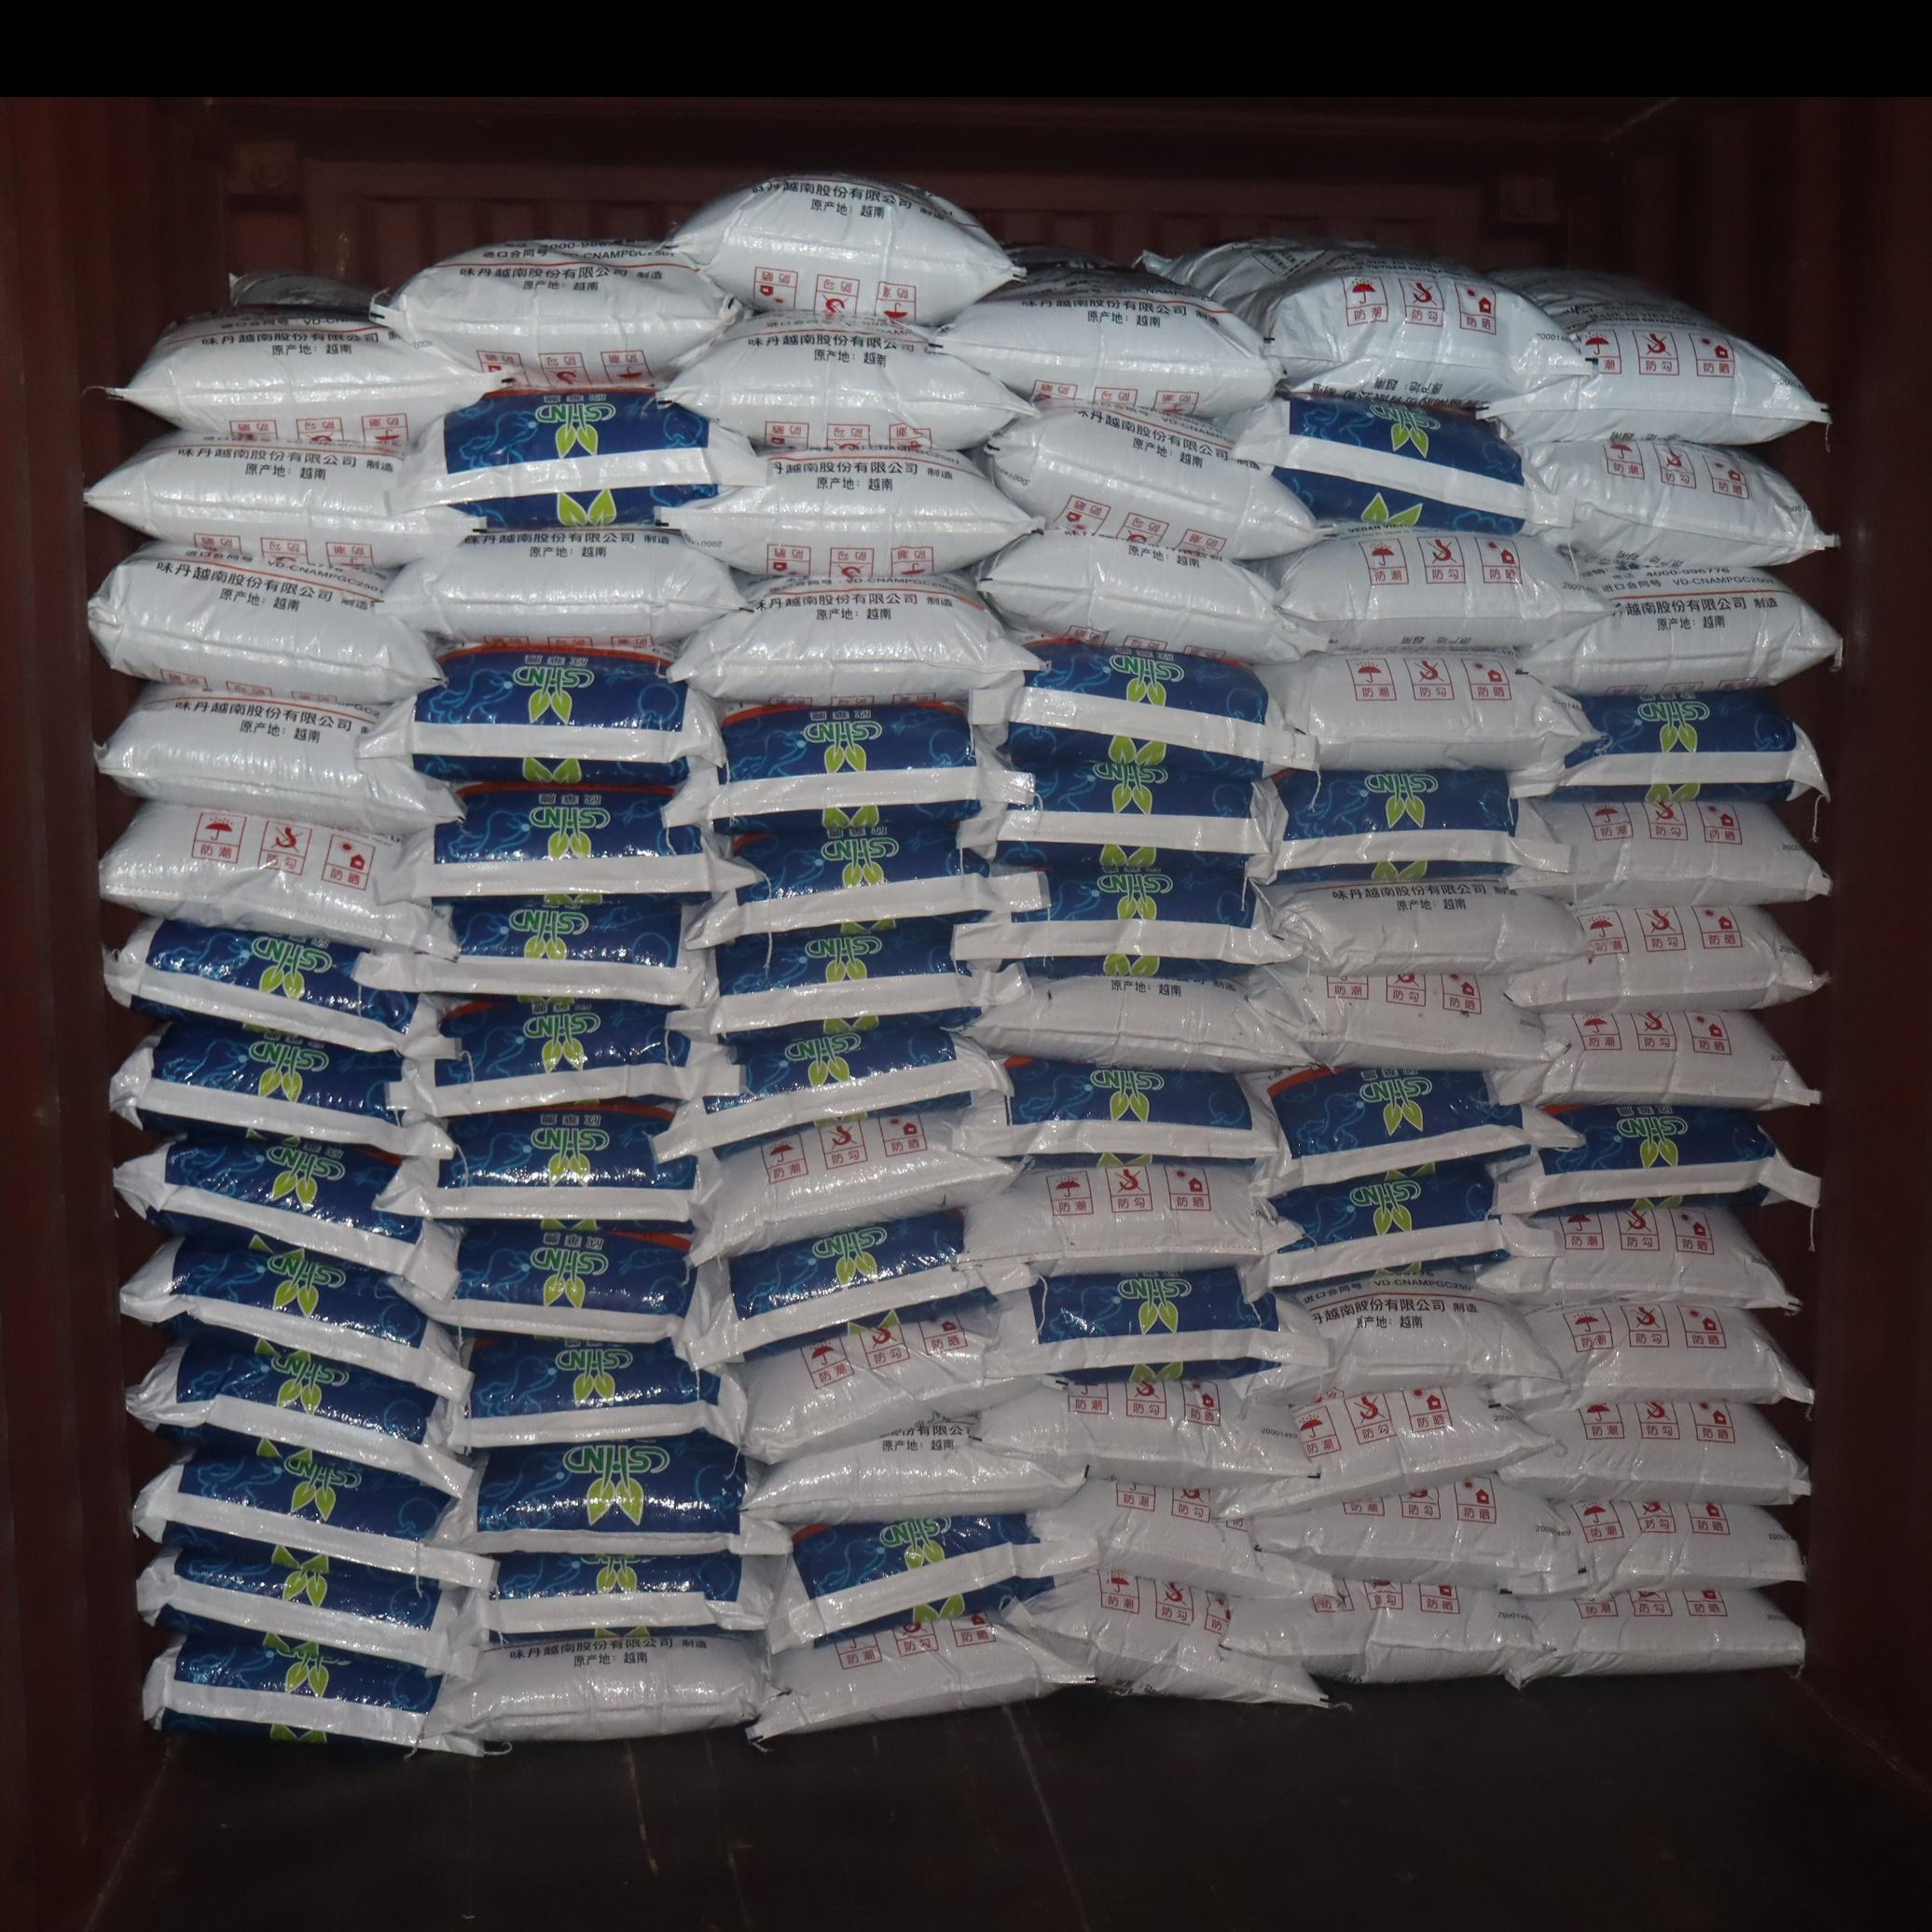sack: (1168, 244, 1591, 407), (1486, 269, 1828, 444), (115, 1136, 458, 1306), (120, 1238, 471, 1401), (88, 540, 435, 702), (110, 308, 497, 449), (375, 241, 738, 391), (97, 683, 458, 833), (85, 430, 483, 566), (683, 1212, 1031, 1366), (134, 1444, 495, 1592), (127, 1339, 471, 1495), (980, 405, 1325, 559), (103, 918, 458, 1063), (672, 175, 1019, 324), (663, 313, 1035, 451), (402, 389, 766, 529), (692, 1108, 1014, 1265), (99, 801, 439, 950), (938, 269, 1276, 418), (359, 646, 720, 784), (978, 531, 1352, 663), (665, 701, 1017, 840), (110, 1017, 455, 1159), (663, 451, 1040, 580), (655, 1021, 1010, 1157), (971, 637, 1315, 777), (669, 577, 1030, 704), (766, 1514, 1099, 1652), (138, 1545, 481, 1677), (1223, 398, 1566, 531), (1261, 522, 1608, 649), (433, 1431, 789, 1555), (1244, 1067, 1580, 1198), (143, 1626, 481, 1755), (1233, 1270, 1560, 1403), (384, 525, 743, 646), (736, 1315, 1030, 1461), (748, 1614, 1092, 1739), (1244, 1161, 1557, 1297), (671, 920, 1023, 1040), (1017, 1569, 1325, 1706), (954, 856, 1292, 980), (961, 752, 1284, 881), (1525, 561, 1840, 694), (697, 826, 1044, 947), (1223, 1385, 1550, 1513), (389, 998, 740, 1116), (1523, 435, 1836, 566), (354, 893, 715, 1007), (1249, 1472, 1583, 1594), (398, 786, 754, 899), (377, 1102, 697, 1228), (1263, 651, 1592, 770), (1003, 1263, 1325, 1382), (428, 1631, 768, 1743), (966, 1159, 1295, 1274), (980, 1375, 1315, 1486), (1497, 1102, 1819, 1214), (1493, 1299, 1812, 1410), (1040, 1477, 1329, 1598), (961, 1058, 1279, 1166), (1476, 1207, 1798, 1313), (1514, 692, 1826, 801), (1274, 771, 1569, 886), (748, 1422, 1083, 1523), (451, 1336, 745, 1449), (1506, 906, 1824, 1010), (966, 975, 1306, 1072), (1504, 1396, 1808, 1504), (426, 1221, 694, 1341), (1491, 1010, 1819, 1108), (1228, 1578, 1537, 1681), (1251, 966, 1557, 1069), (1506, 1585, 1803, 1686), (1543, 803, 1829, 906), (1263, 883, 1583, 973), (472, 1550, 777, 1644), (1557, 1499, 1803, 1592)
